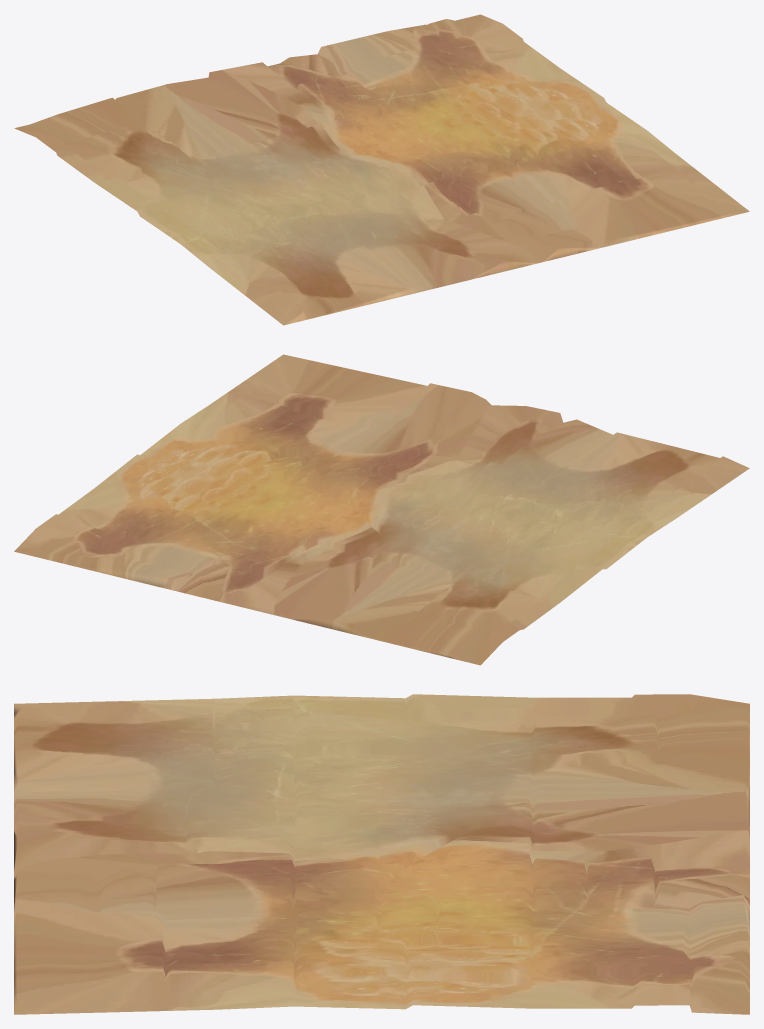
3 renders of one model, top to bottom at view 1: azimuth 30°, elevation 25°; view 2: azimuth 150°, elevation 25°; view 3: azimuth 270°, elevation 25°, orthographic. The views are drawn at different scales.
Visible parts, largest first — view 1: SM_Fleece_01_LOD0; view 2: SM_Fleece_01_LOD0; view 3: SM_Fleece_01_LOD0.
Boxes of the visible parts, box(x1,y1,x2,y2) form: SM_Fleece_01_LOD0: box(14, 14, 749, 325); SM_Fleece_01_LOD0: box(14, 354, 749, 665); SM_Fleece_01_LOD0: box(14, 694, 749, 1014).
Bounding box in the file's own units: 4 × 0.1067 × 4.
